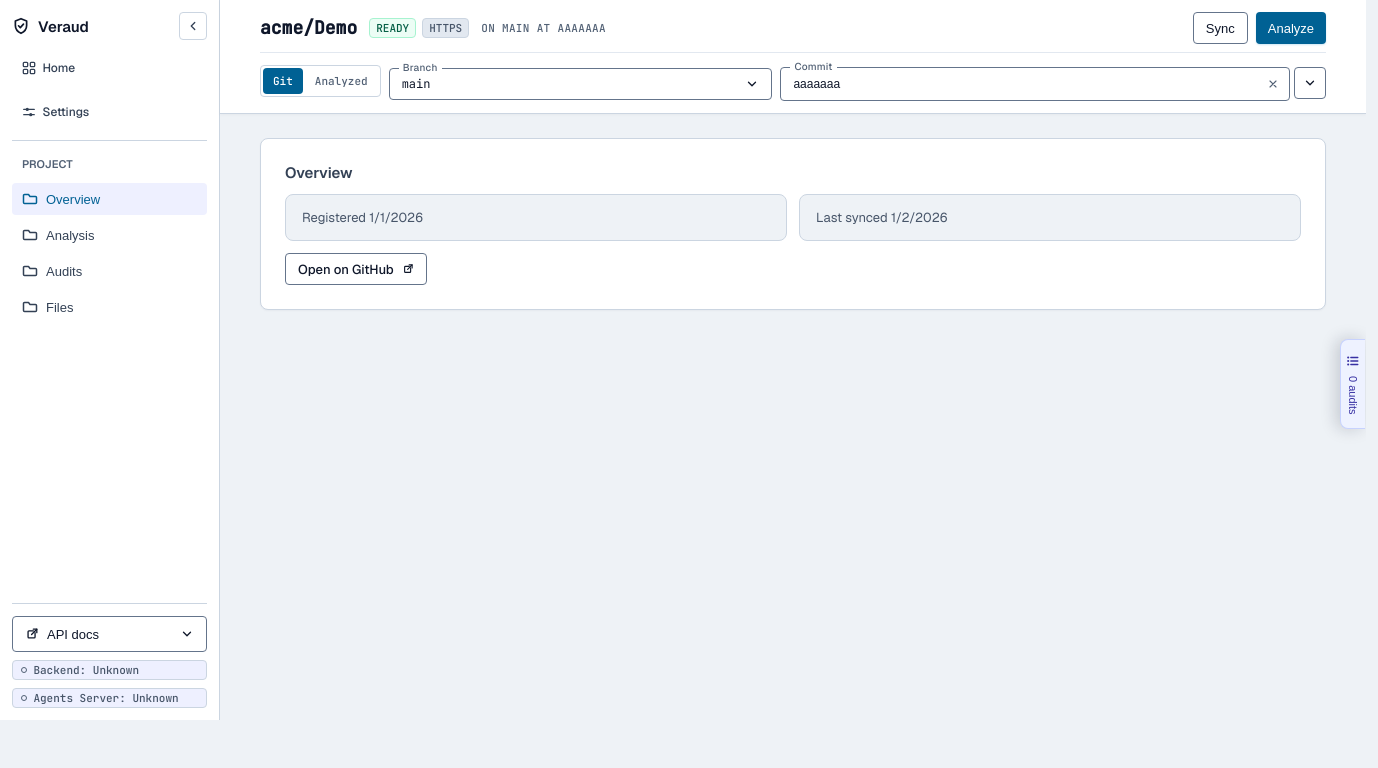
Test: ProjectDetailPage › keeps the contextual header and version selection mounted across project sections
The width and height of the screenshot is (1378, 768).
Expected: the heading "acme/Demo" is shown, [260,16,357,40]
Expected: the text "READY" is shown, [376,21,409,35]
Click the button "Audits" at coordinates (110, 271), box [12,255,207,287]
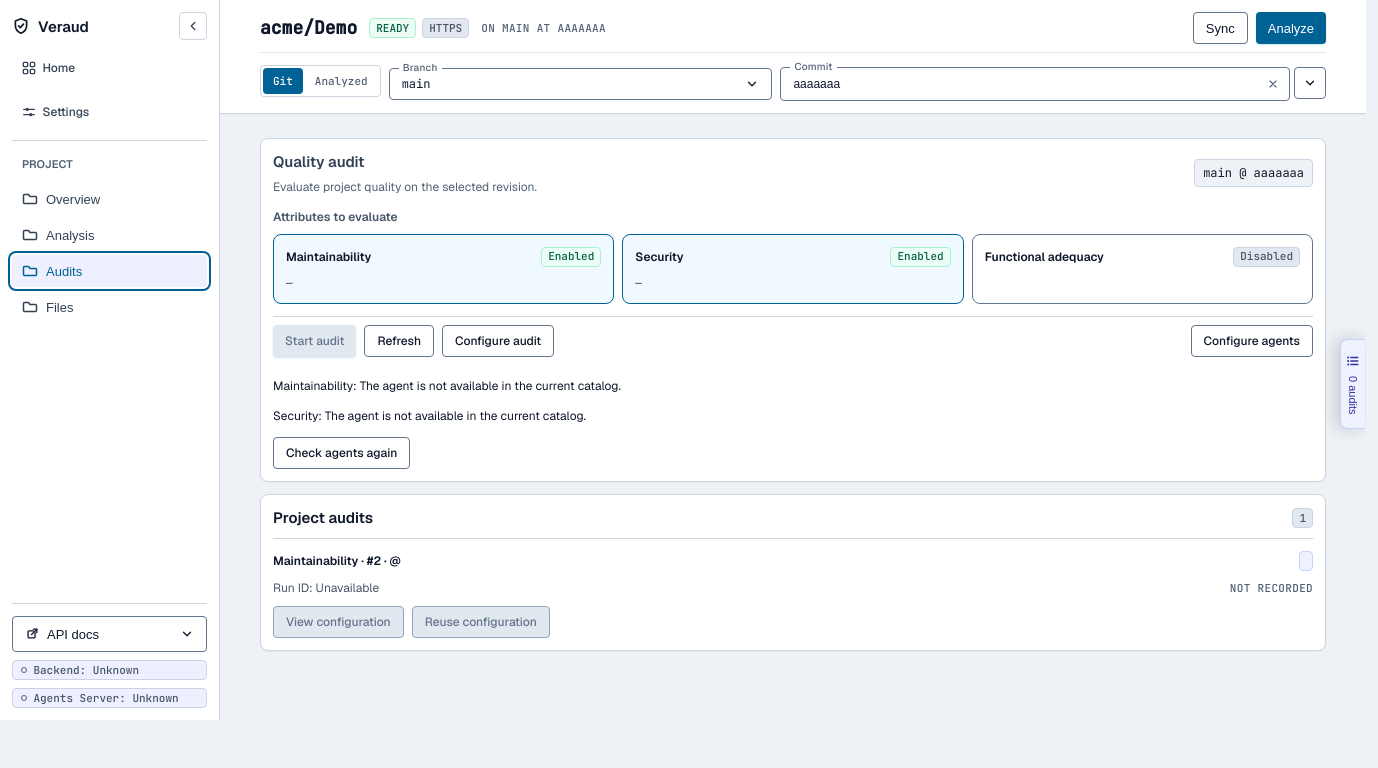
Expected: the button "Analyze" is enabled, [1256,12,1326,44]
Expected: the link "Open on GitHub" is gone
Expected: the text "Last synced" is gone
Click the button "Files" at coordinates (110, 307), box [12,291,207,323]
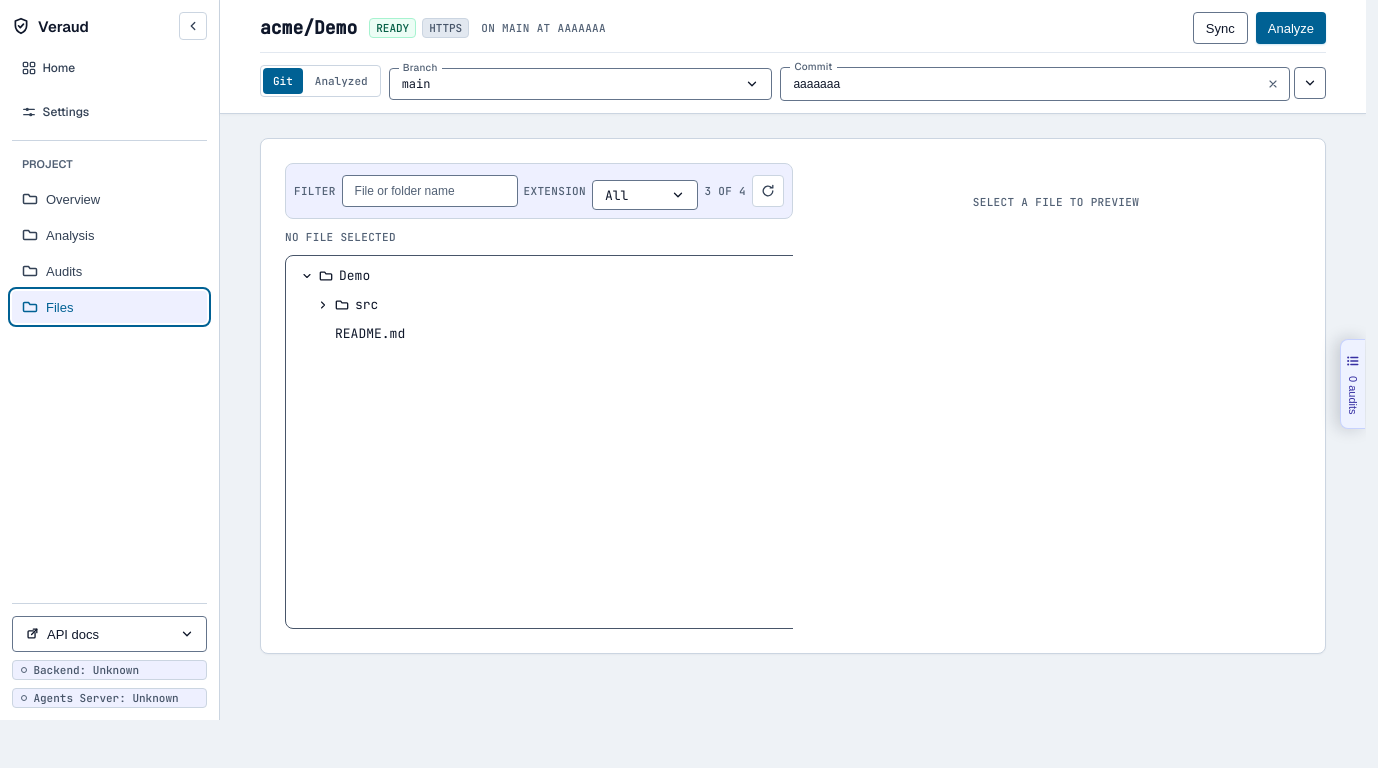
Expected: the button "Analyze" is enabled, [1256,12,1326,44]
Expected: the button "Sync" is enabled, [1193,12,1248,44]
Click the button "Overview" at coordinates (110, 199), box [12,183,207,215]
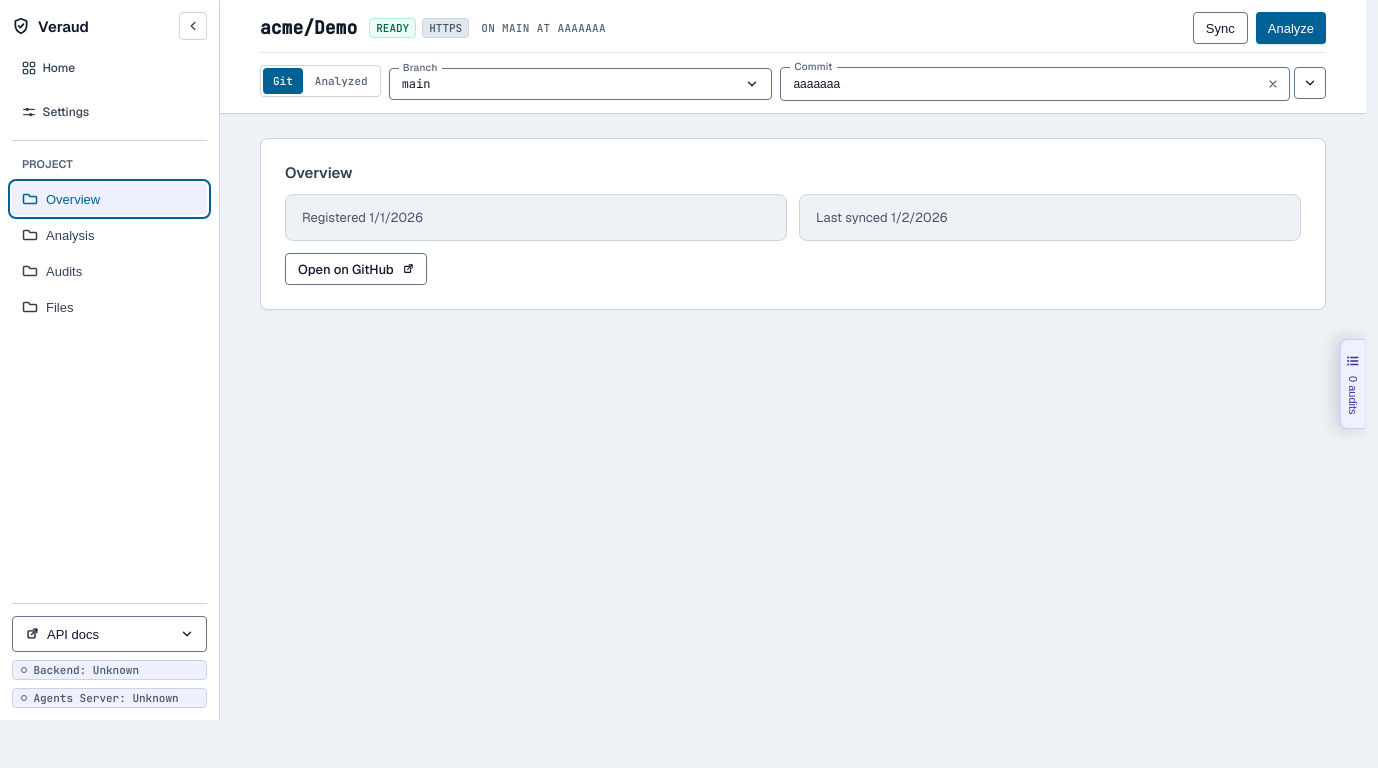
Expected: the button "Analyze" is enabled, [1256,12,1326,44]
Expected: the element named "Project overview" is shown, [285,163,1301,285]
Expected: the link "Open on GitHub" is shown, [285,253,427,285]
